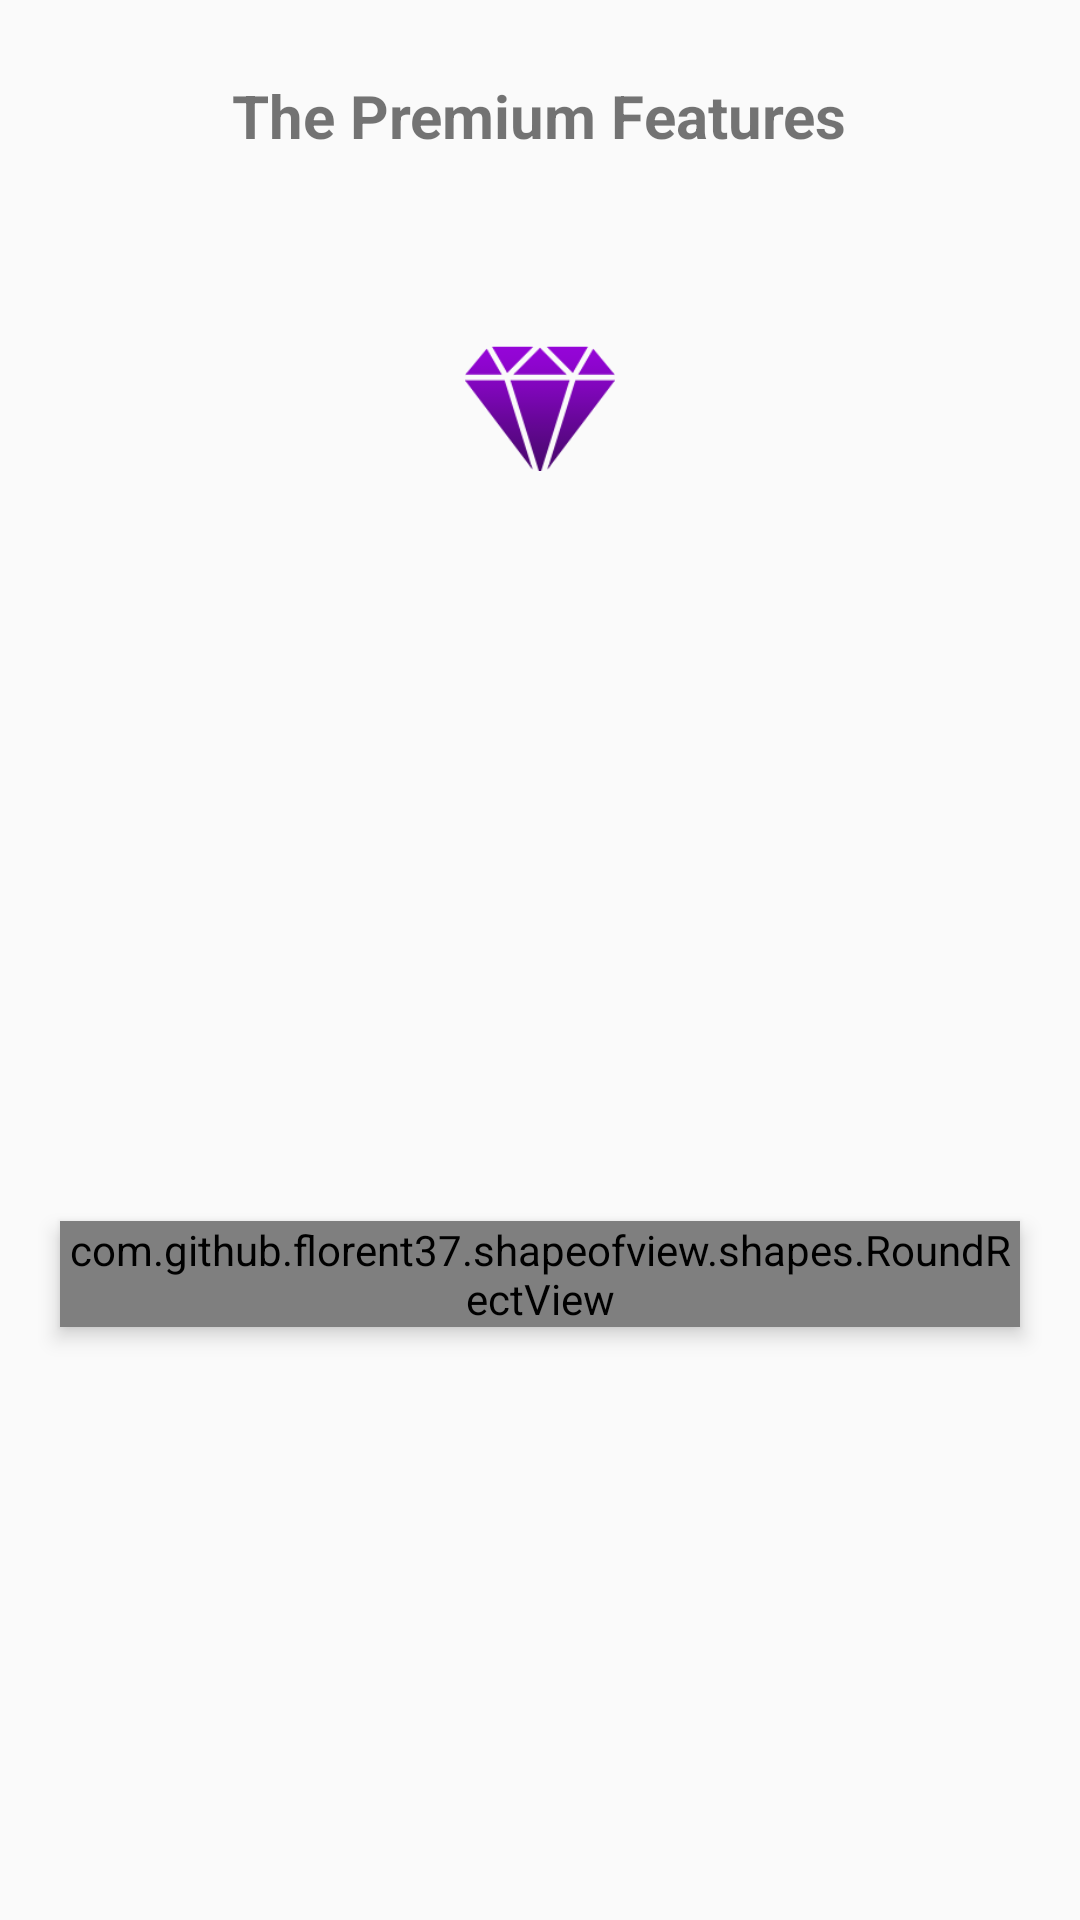

Named icons in this screenshot (1080×1920) and their bounding boxes, (x1, y1, x2, y2):
diamond: (465, 346, 615, 471)
